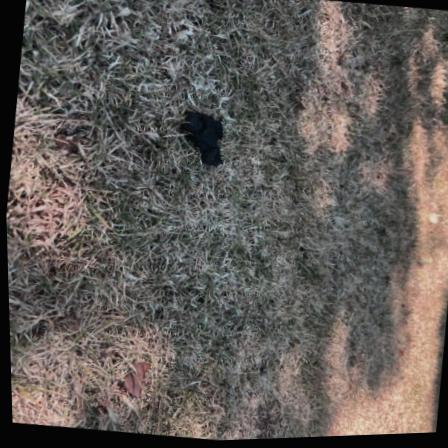dog-poop: (174, 95, 240, 175)
